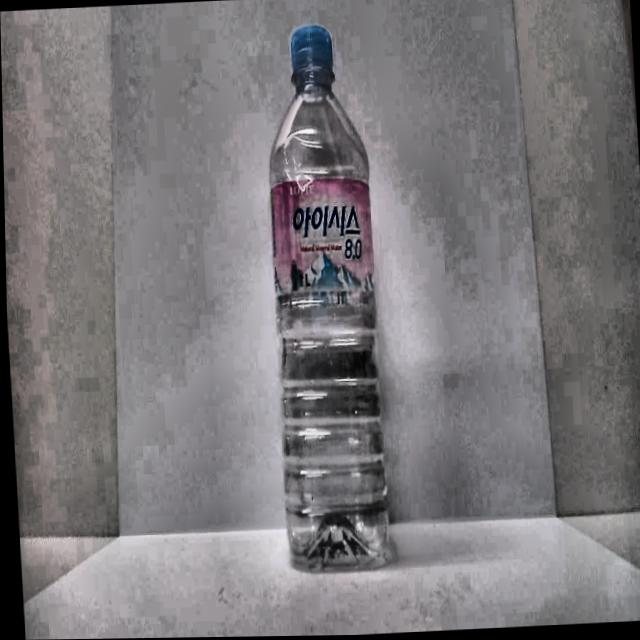Bottles: (251, 18, 409, 588)
